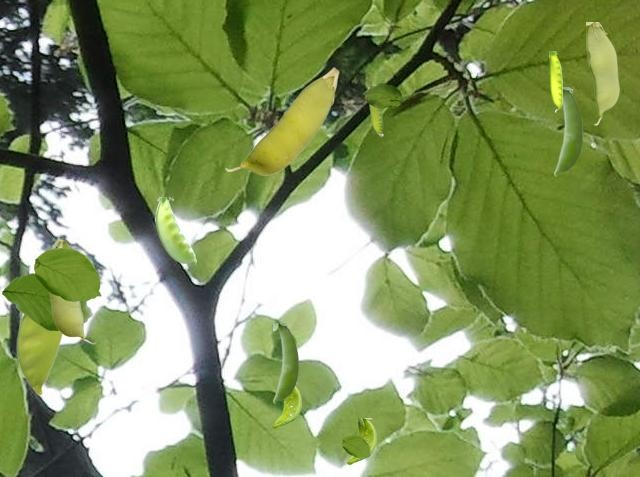pea: (225, 67, 338, 174), (49, 236, 95, 343), (16, 314, 62, 394), (586, 22, 618, 124), (155, 197, 195, 266), (554, 87, 581, 175), (273, 323, 297, 402), (271, 382, 300, 427), (346, 418, 375, 463), (549, 51, 561, 111), (368, 85, 382, 135)
